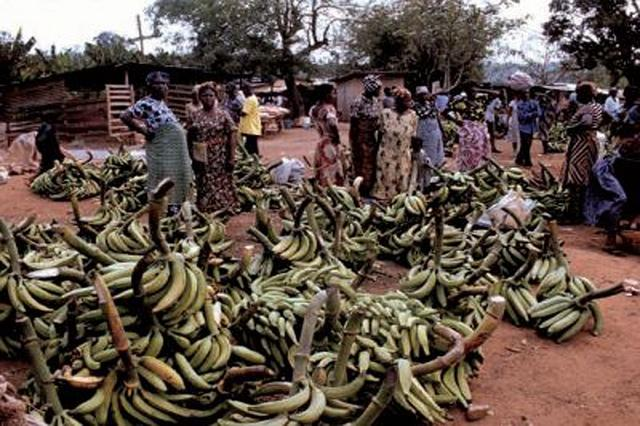banana: (98, 261, 170, 306), (151, 252, 187, 314), (248, 379, 310, 414), (164, 265, 198, 321), (132, 387, 180, 426), (135, 356, 185, 390), (289, 380, 326, 424), (120, 386, 157, 426), (16, 279, 54, 312), (410, 376, 443, 412), (22, 280, 68, 304), (217, 411, 289, 426), (546, 306, 582, 334), (246, 381, 301, 398), (536, 267, 566, 297), (346, 358, 380, 384), (507, 286, 530, 322), (286, 229, 310, 262), (188, 336, 212, 369), (198, 338, 220, 373), (6, 275, 26, 313), (530, 302, 575, 318), (407, 390, 434, 416), (128, 218, 150, 248), (212, 335, 232, 367), (144, 326, 164, 358), (397, 358, 412, 398), (300, 229, 318, 262), (60, 375, 104, 388), (432, 380, 454, 404), (402, 270, 431, 288), (102, 268, 134, 284), (416, 324, 432, 356), (184, 336, 207, 358), (272, 232, 294, 254), (285, 319, 301, 347), (120, 232, 143, 249), (176, 314, 197, 332), (472, 172, 493, 190), (502, 248, 520, 269), (217, 292, 235, 312), (336, 190, 356, 208), (530, 255, 544, 280), (88, 210, 110, 225), (44, 338, 60, 358), (162, 334, 178, 354), (426, 185, 444, 202), (508, 245, 526, 262), (112, 231, 127, 251), (521, 278, 536, 298), (76, 309, 103, 320), (406, 316, 430, 328), (342, 225, 357, 244), (51, 167, 66, 186), (312, 366, 326, 386), (430, 238, 464, 246), (298, 272, 316, 285), (264, 326, 279, 340), (293, 304, 307, 318), (406, 224, 420, 238), (284, 297, 310, 304), (192, 224, 210, 234), (26, 230, 40, 242), (262, 188, 276, 200), (90, 179, 102, 193), (524, 243, 542, 252), (442, 248, 458, 258), (105, 170, 115, 185), (421, 223, 432, 236), (412, 230, 423, 242), (509, 167, 523, 176), (362, 319, 370, 334), (332, 332, 342, 344), (118, 194, 126, 208), (253, 153, 260, 169), (380, 319, 390, 330), (404, 310, 412, 323), (412, 241, 422, 251), (0, 252, 11, 261), (136, 161, 144, 172), (296, 266, 318, 270), (242, 165, 254, 172), (136, 190, 146, 198), (531, 190, 547, 195), (376, 295, 386, 303), (217, 224, 223, 236), (384, 218, 396, 224), (78, 186, 85, 196), (259, 297, 270, 303), (260, 170, 268, 178), (448, 288, 458, 294), (328, 224, 334, 234), (526, 187, 537, 192), (270, 294, 282, 298), (554, 194, 562, 199), (170, 220, 174, 229), (368, 348, 372, 357), (62, 180, 70, 184), (130, 179, 138, 182), (558, 126, 560, 132)
